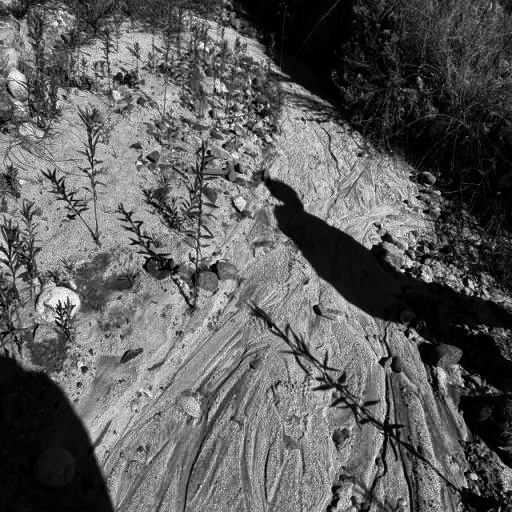mallet: (187, 164, 236, 182)
